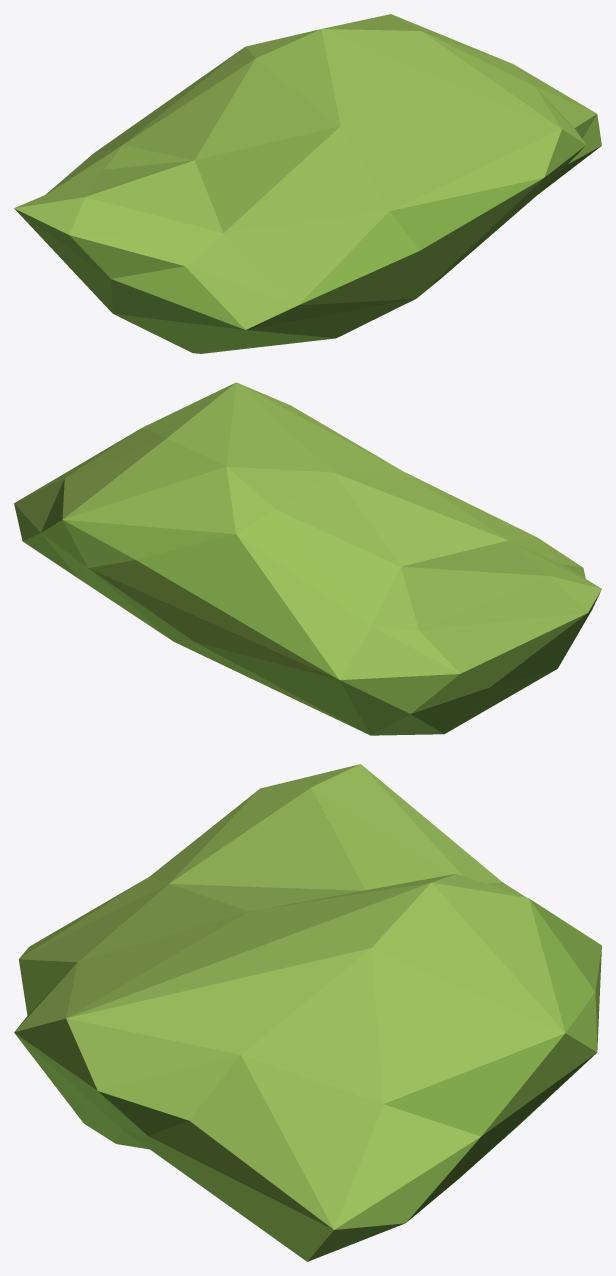
Rendered from WR_Env_Bush_Wide_03.glb.
3 renders of one model, top to bottom at view 1: azimuth 30°, elevation 25°; view 2: azimuth 150°, elevation 25°; view 3: azimuth 270°, elevation 25°, orthographic. The views are drawn at different scales.
Parts seen in each view (by area): view 1: BushWide_CONNECTED_Foliage; view 2: BushWide_CONNECTED_Foliage; view 3: BushWide_CONNECTED_Foliage.
Boxes of the visible parts, <box> form: BushWide_CONNECTED_Foliage: <box>14,14,601,353</box>; BushWide_CONNECTED_Foliage: <box>14,382,601,735</box>; BushWide_CONNECTED_Foliage: <box>14,764,601,1261</box>.
Size of the model in its own units: 1.19 by 0.48 by 0.7235.
